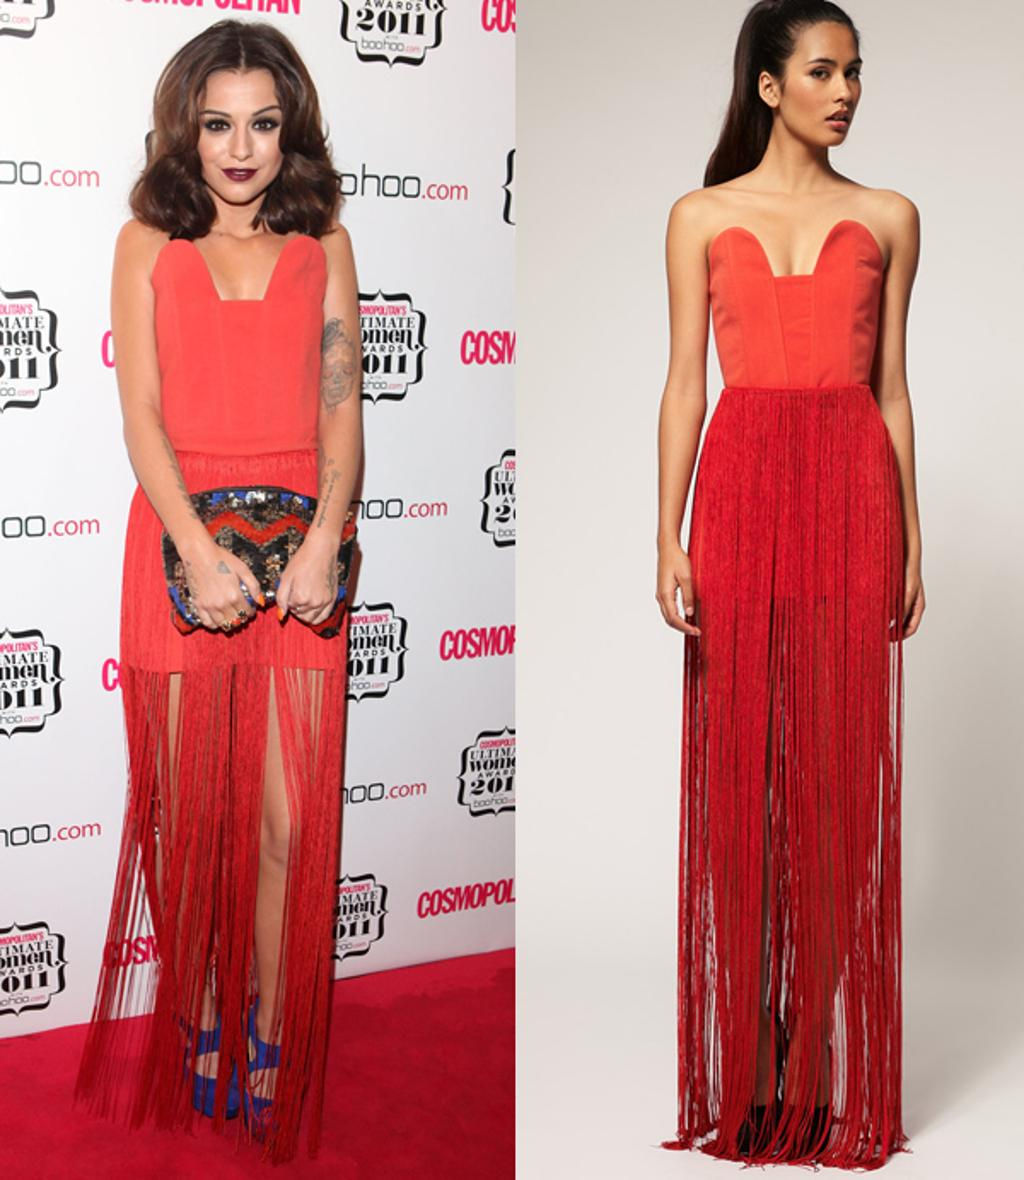face: (193, 64, 285, 202), (782, 18, 863, 147)
